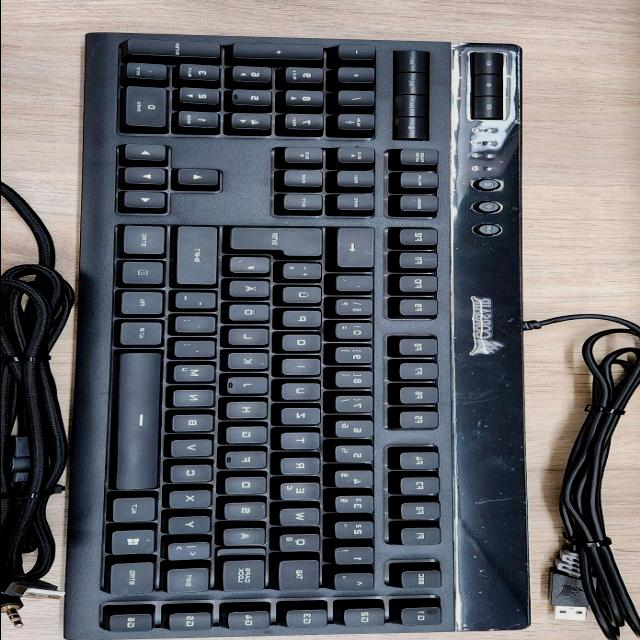0: (336, 323, 378, 342)
1: (336, 548, 379, 567)
2: (336, 522, 379, 541)
3: (336, 496, 379, 514)
4: (336, 471, 378, 490)
5: (335, 446, 378, 465)
6: (335, 420, 378, 439)
7: (337, 396, 379, 414)
8: (336, 371, 378, 390)
9: (336, 347, 378, 366)
a: (225, 529, 271, 547)
accent: (336, 276, 378, 294)
ae: (230, 282, 275, 300)
alt-left: (113, 498, 161, 524)
altgr-right: (121, 321, 168, 347)
b: (173, 414, 219, 434)
c: (172, 465, 217, 484)
caret: (336, 574, 379, 593)
comma: (175, 341, 221, 360)
d: (226, 477, 271, 496)
del: (337, 229, 380, 270)
e: (282, 483, 326, 502)
enter: (230, 228, 330, 258)
f: (226, 452, 271, 471)
g: (227, 427, 272, 446)
h: (228, 403, 272, 421)
hash: (231, 258, 275, 276)
i: (283, 359, 325, 377)
j: (228, 378, 273, 396)
k: (229, 353, 274, 372)
keyboard: (88, 33, 456, 635)
l: (229, 330, 274, 348)
less: (169, 543, 215, 562)
m: (174, 365, 220, 385)
minus: (177, 293, 221, 312)
n: (175, 390, 219, 409)
o: (284, 335, 326, 354)
oe: (230, 305, 274, 323)
p: (284, 311, 326, 329)
plus: (284, 264, 327, 282)
point: (176, 317, 221, 336)
q: (281, 535, 326, 554)
r: (283, 459, 325, 477)
s: (226, 503, 271, 522)
shift-left: (169, 568, 215, 595)
shift-lock: (223, 560, 271, 592)
shift-right: (178, 227, 223, 287)
space: (117, 351, 167, 493)
ss: (336, 299, 378, 318)
strg-left: (110, 562, 160, 597)
strg-right: (123, 225, 170, 257)
t: (283, 433, 325, 452)
tab: (281, 560, 325, 592)
u: (283, 384, 326, 402)
ue: (284, 287, 326, 305)
v: (173, 440, 218, 459)
w: (281, 509, 325, 528)
x: (170, 491, 217, 509)
y: (169, 517, 215, 536)
z: (283, 408, 326, 426)
